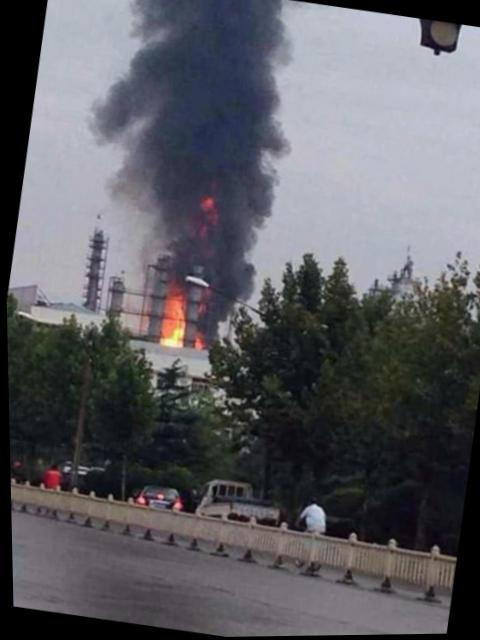fire: (151, 284, 187, 346), (188, 331, 202, 350)
